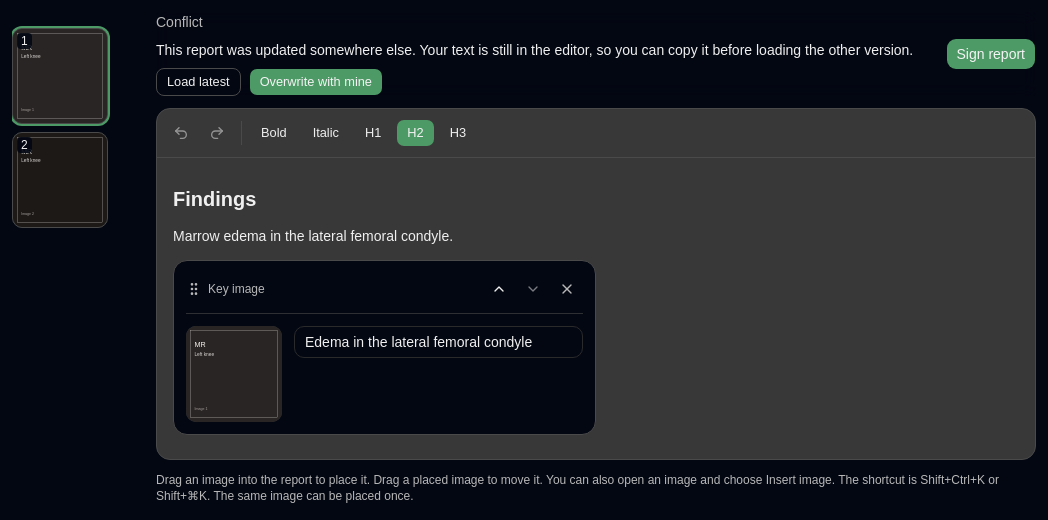
Scenario: flags a newer report from another tab without changing the editor
Expected: the text "Conflict" is shown, 156,14 -> 203,30
Expected: the text box "Marrow edema in the lateral femoral condyle." is shown, 173,228 -> 453,244
Click the button "Load latest". click: (198, 82)
box: 156,68 -> 241,96
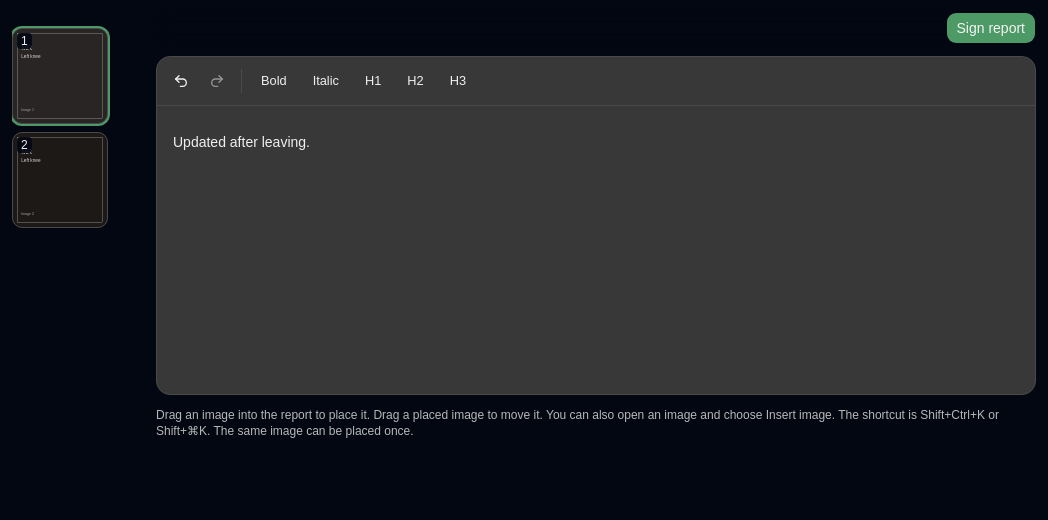
Expected: the text box "Updated after leaving." is shown, 173,134 -> 310,150
